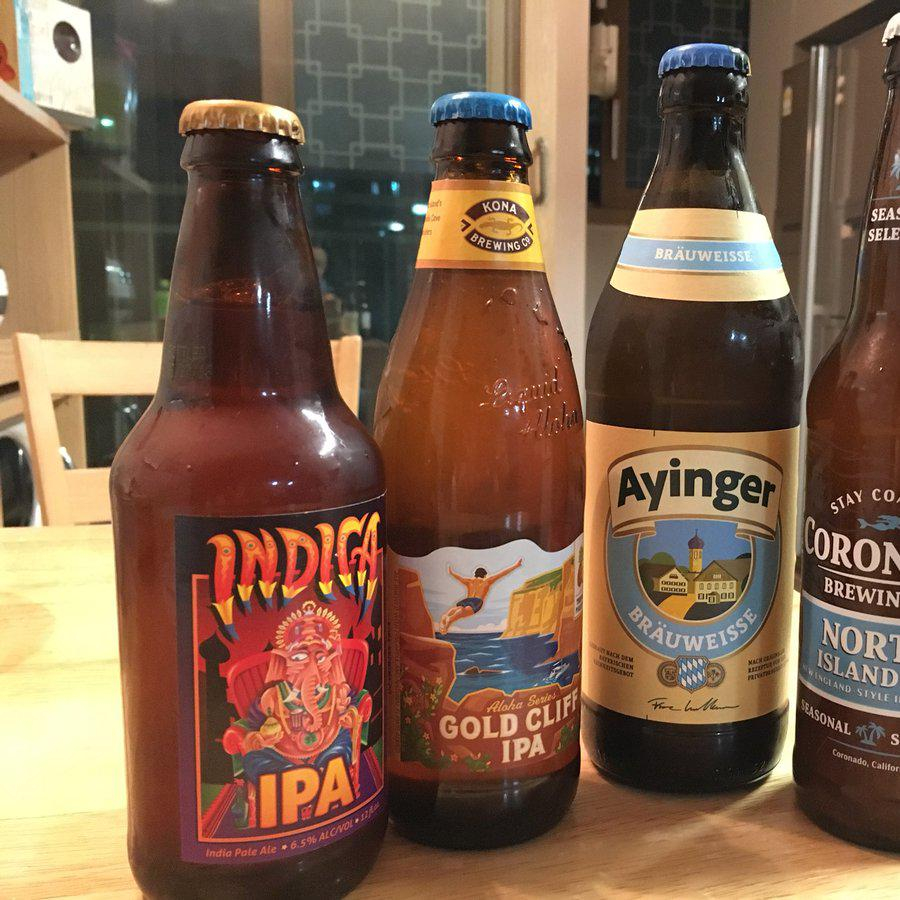beer: (121, 35, 900, 894)
